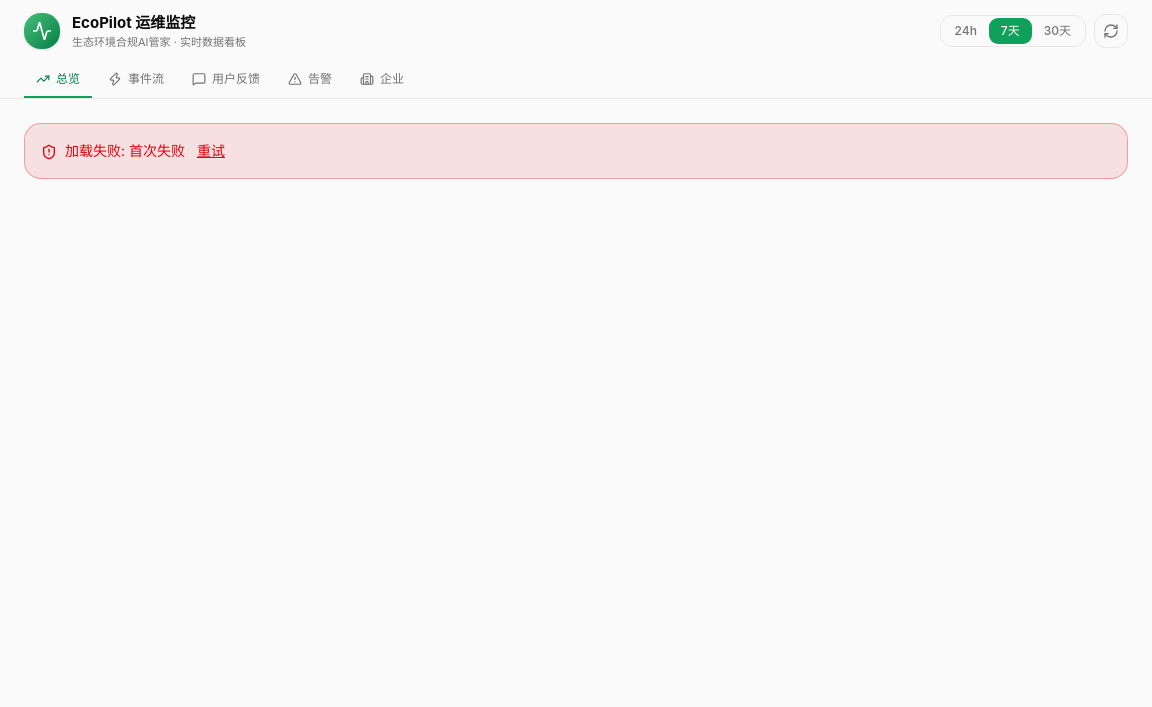
Test: MonitorPage › retry button fetches data after clearing error
This screenshot has width=1152, height=707.
Expected: the text "加载失败: 首次失败 重试" is shown, [24,123,1128,179]
Step 1. Click the button "重试" → (211, 151), box [197,140,225,162]
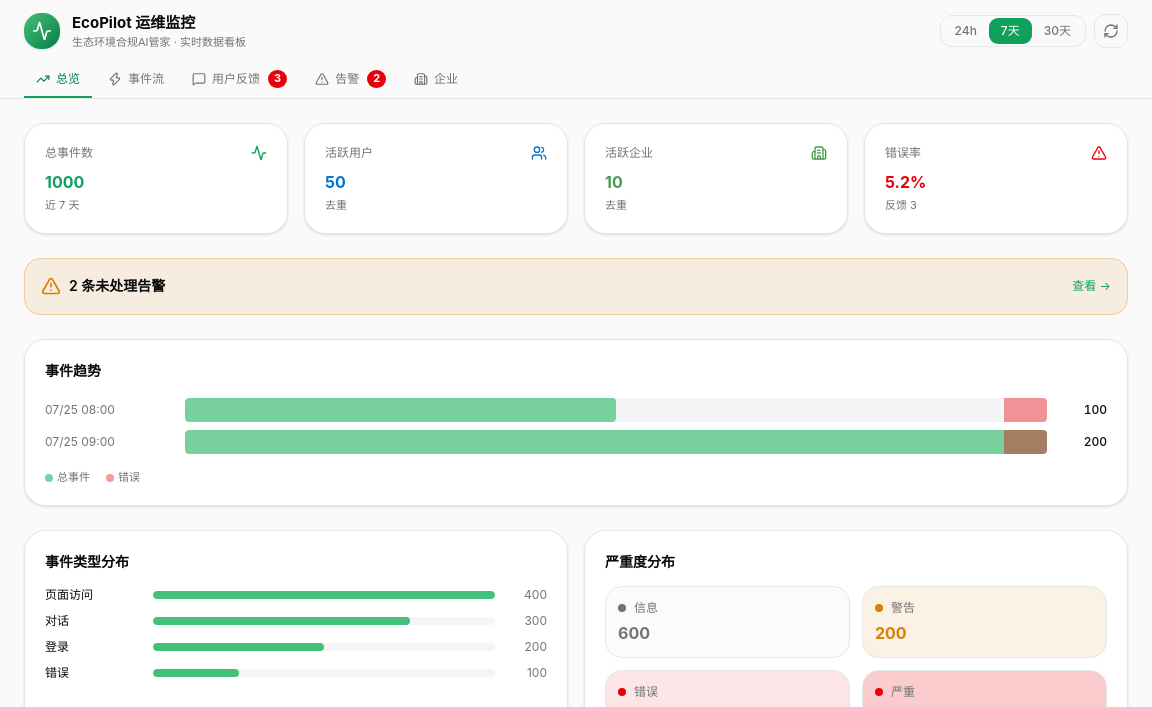
Now the text "1000" is shown, box [45,172,84,192]
Now the text "首次失败" is gone
